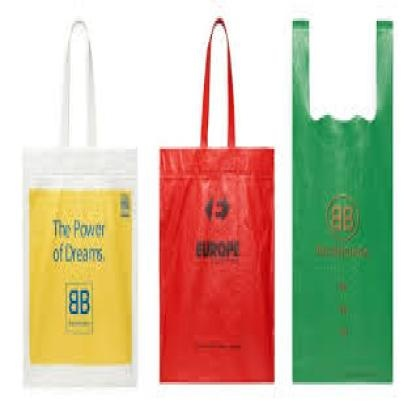trash: (160, 18, 273, 382), (24, 20, 136, 384), (293, 21, 392, 382), (207, 25, 228, 148)
